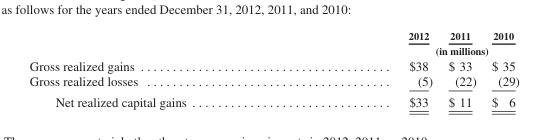table: (28, 28, 518, 108)
table column: (28, 28, 296, 108), (296, 28, 439, 108), (439, 28, 483, 108), (483, 28, 518, 108)
table column header: (28, 28, 518, 57)
table row: (28, 72, 518, 91), (28, 91, 518, 108), (28, 42, 518, 57), (28, 57, 518, 72), (28, 28, 518, 42)
table spanning cell: (296, 42, 518, 57)
